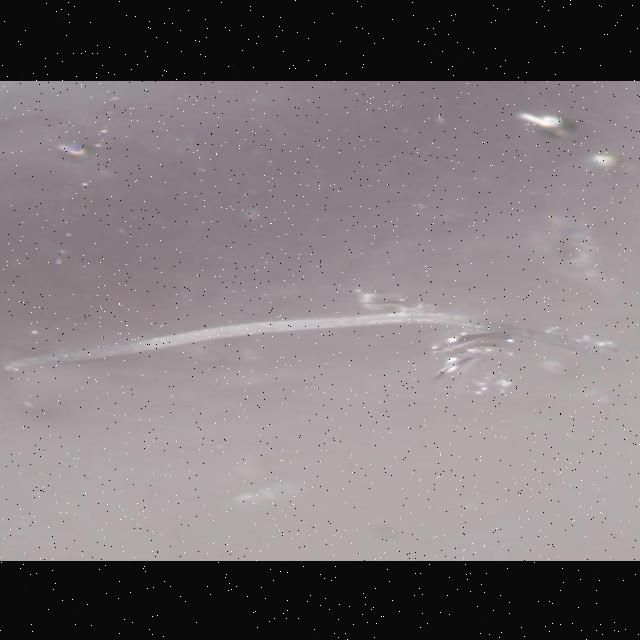Fibre: (4, 286, 628, 396)
